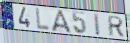4: (18, 7, 32, 29)
5: (71, 12, 88, 36)
A: (51, 9, 74, 35)
I: (93, 12, 101, 36)
L: (35, 7, 51, 32)
R: (108, 15, 125, 38)
